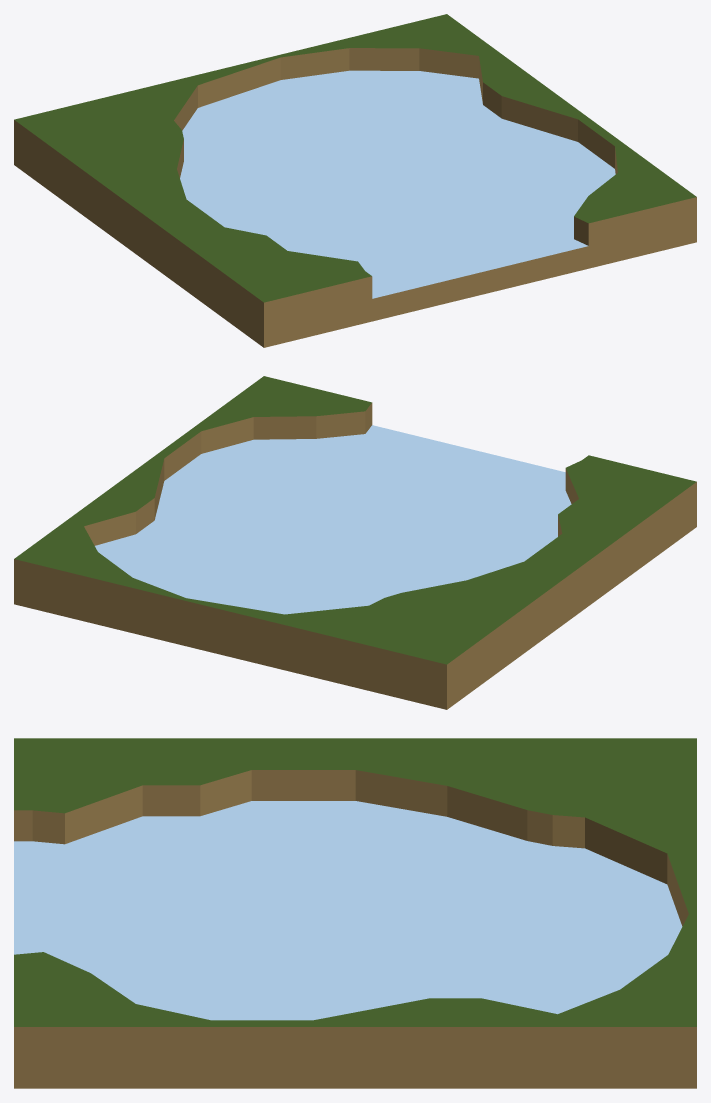
The model's file is Terrain_Modular_Tiles_Grass_Dirt_River_End_01.fbx.
3 views of the same model, one above another, from view 1: azimuth 30°, elevation 25°; view 2: azimuth 150°, elevation 25°; view 3: azimuth 270°, elevation 25° (orthographic). The views are drawn at different scales.
Parts seen in each view (by area): view 1: Terrain_Modular_Tiles_Grass_Dirt_River_End_01; view 2: Terrain_Modular_Tiles_Grass_Dirt_River_End_01; view 3: Terrain_Modular_Tiles_Grass_Dirt_River_End_01.
Boxes of the visible parts, x1=… form: Terrain_Modular_Tiles_Grass_Dirt_River_End_01: x1=14, y1=14, x2=696, y2=347; Terrain_Modular_Tiles_Grass_Dirt_River_End_01: x1=14, y1=376, x2=696, y2=709; Terrain_Modular_Tiles_Grass_Dirt_River_End_01: x1=14, y1=738, x2=696, y2=1088.
Size of the model in its own units: 118 by 11.81 by 118.
